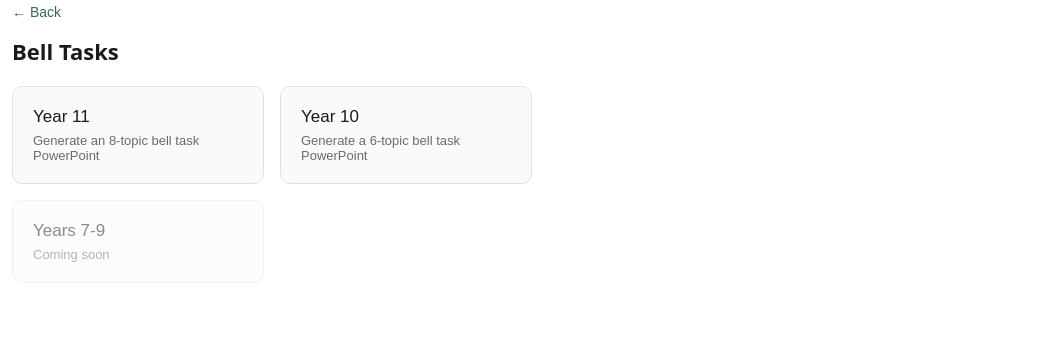
Test: BellTasksView › does not double up a tier suffix already baked into the topic name
The image size is (1048, 341).
Click the text "Year 10" at (330, 116), box left=301, top=107, right=359, bottom=126
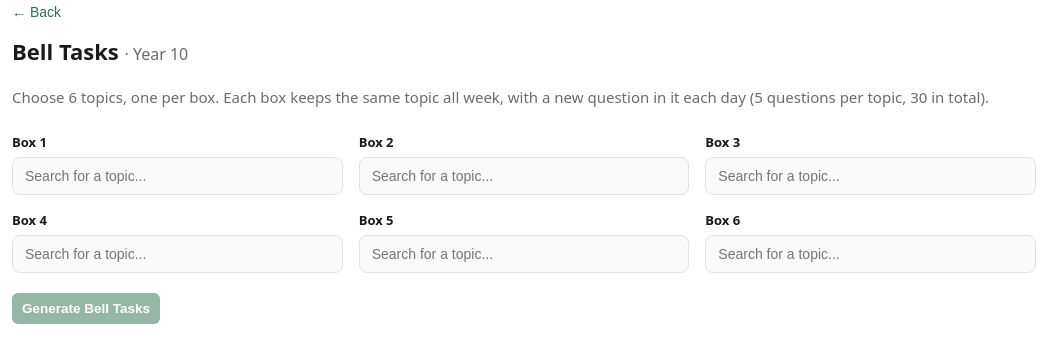
Click the dropdown labelled "Box 1" at (177, 176), box left=12, top=156, right=343, bottom=194
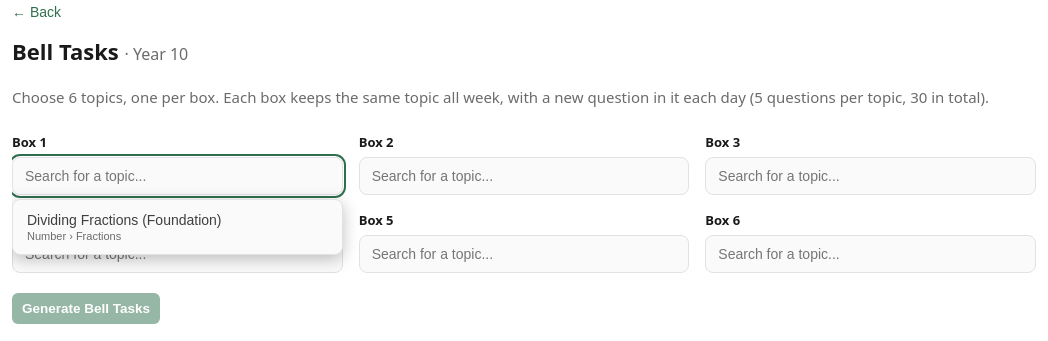
Check: the text "Dividing Fractions (Foundation)" is shown, box left=27, top=212, right=222, bottom=228
